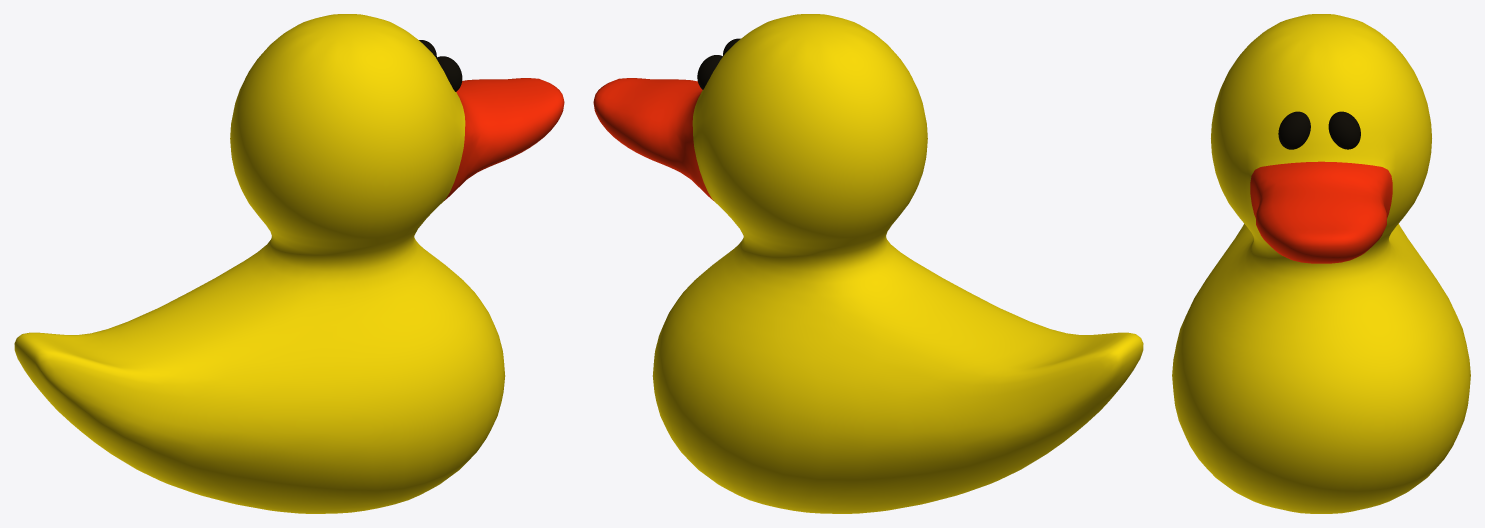
Rendered from babyDuck.FBX.
The picture shows the model from 3 angles, left to right: view 1: azimuth 30°, elevation 25°; view 2: azimuth 150°, elevation 25°; view 3: azimuth 270°, elevation 25°; orthographic projection.
Parts seen in each view (by area): view 1: Sphere001; view 2: Sphere001; view 3: Sphere001.
Part boxes in pixels (x1,y1,x2,y2): Sphere001: (14,14,564,513); Sphere001: (593,14,1143,513); Sphere001: (1172,14,1470,513).
Bounding box in the file's own units: 41.4 × 34.65 × 20.11.
